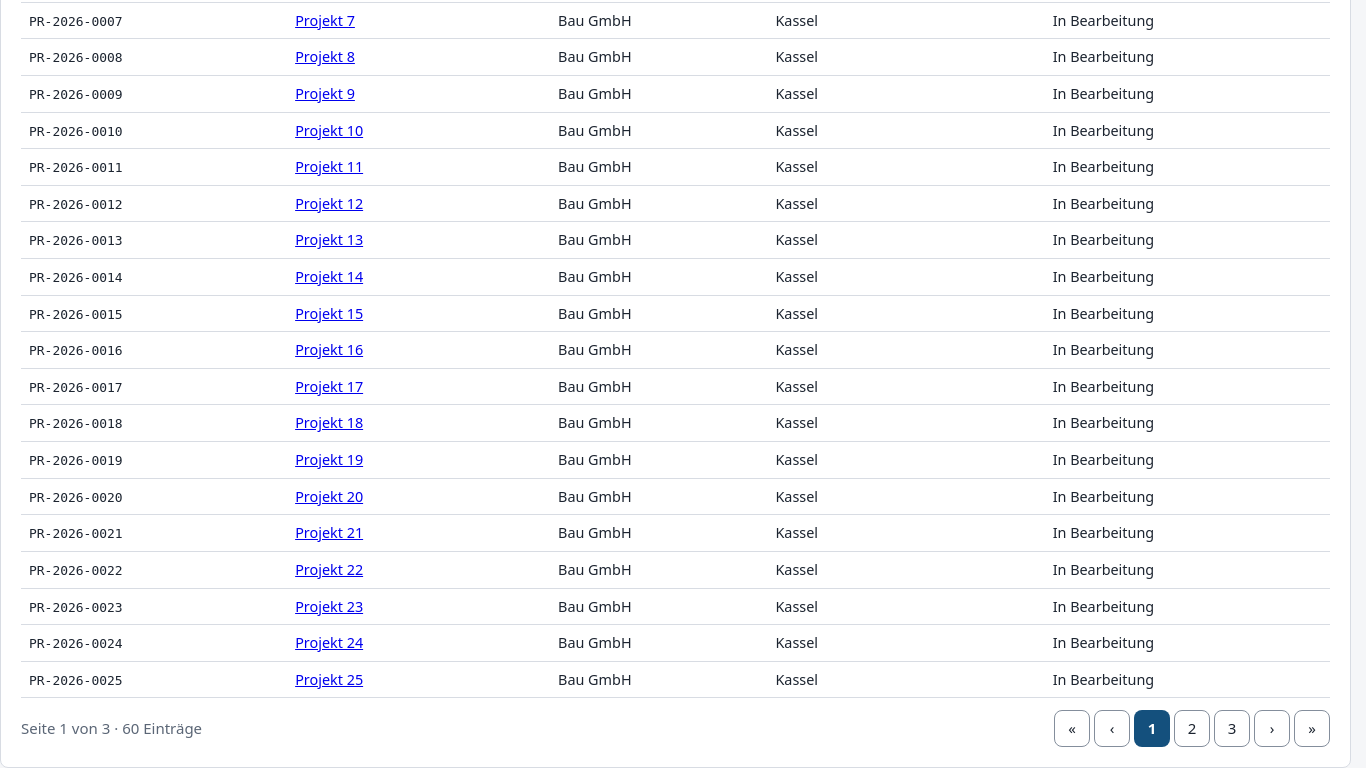
Projektübersicht › blättert mit nummerierten Seiten statt „Weitere laden“
(page scrolled)
Check: the text "Seite 1 von 3 · 60 Einträge" is shown, box [21, 717, 202, 740]
Click the button named "Seite 3": [1232, 729] box [1214, 710, 1250, 747]
(page scrolled)
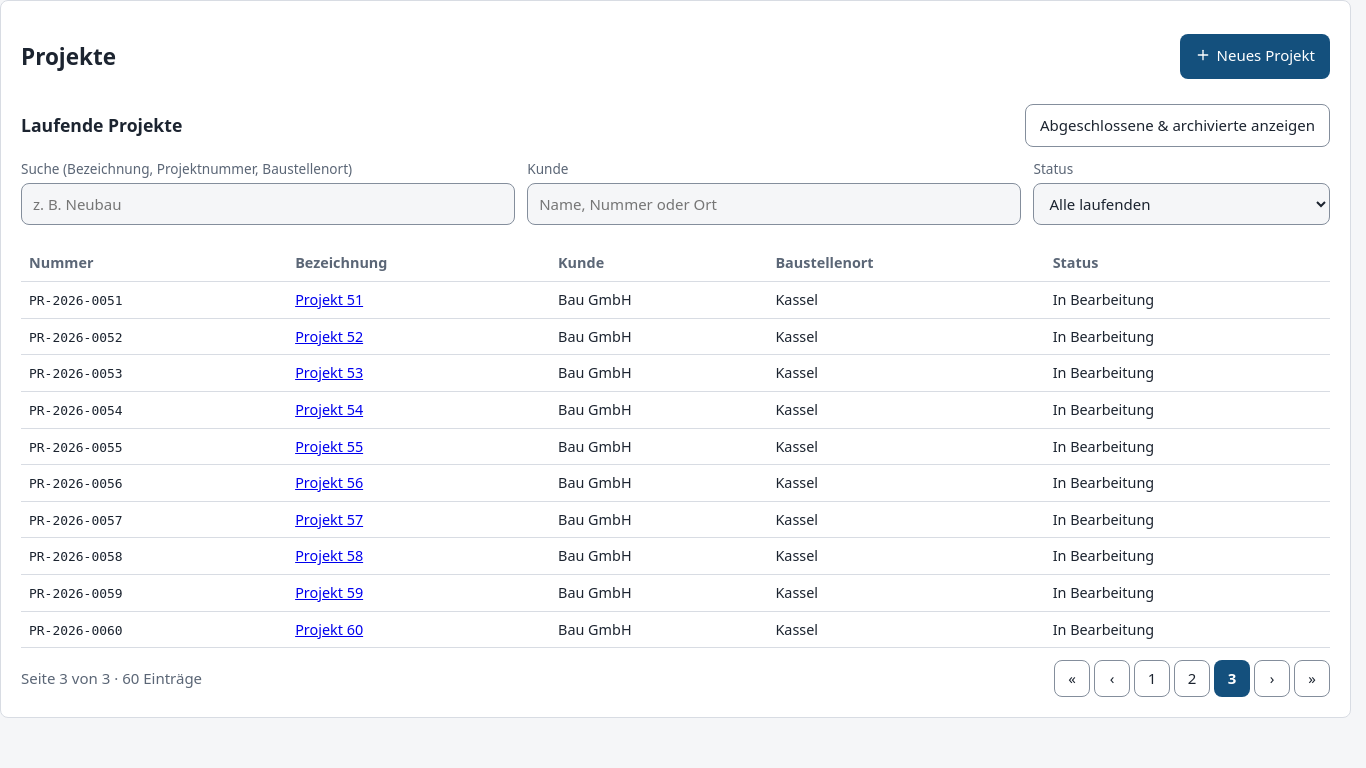
Check: the link "Projekt 51" is shown, box [295, 290, 363, 309]
